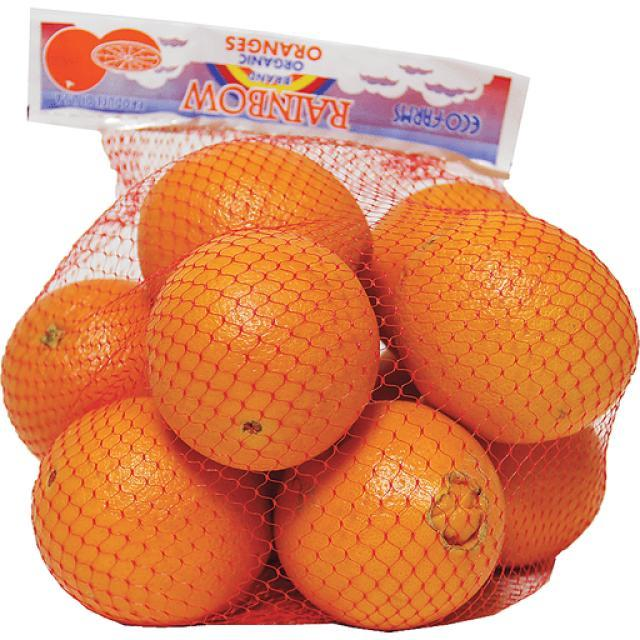Orange: (1, 136, 638, 629), (393, 207, 639, 445), (143, 225, 380, 472), (30, 394, 272, 626), (272, 397, 507, 631), (136, 138, 372, 282), (0, 276, 150, 457), (365, 179, 527, 345), (485, 424, 607, 570)
